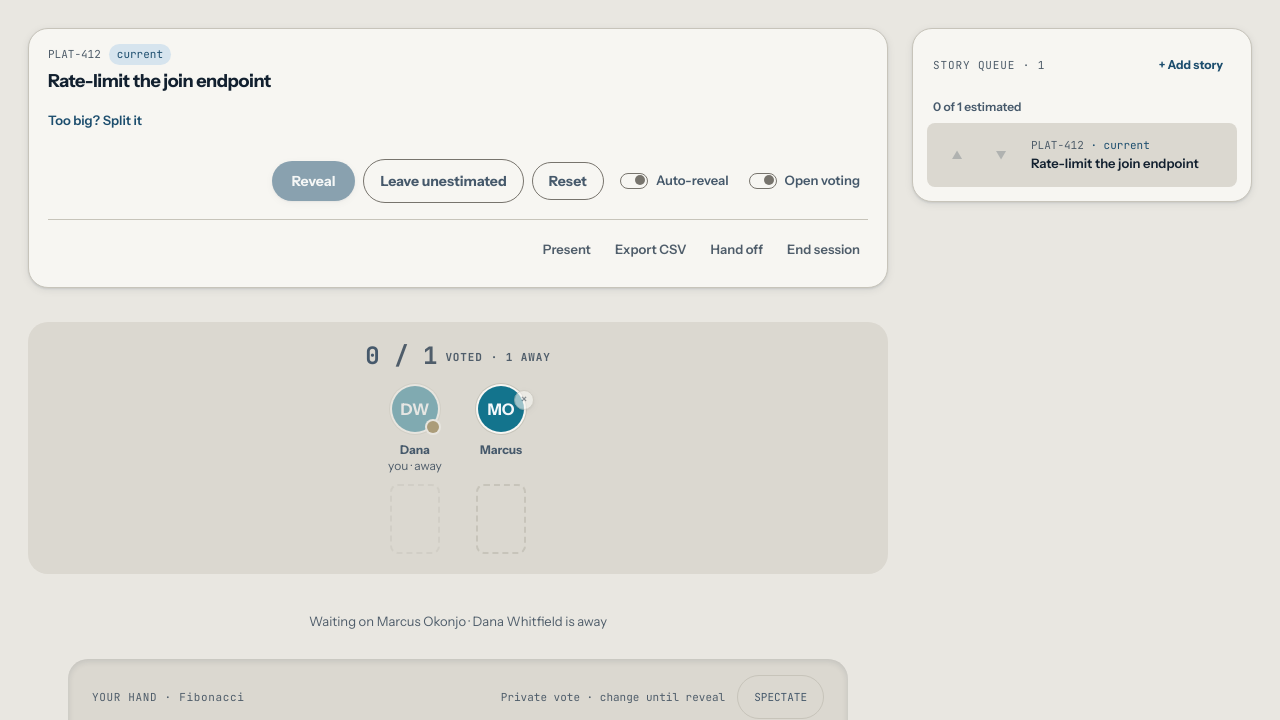
Test case: PokerRoom errors › routes a real queue-originated failure into the story queue landmark
Click the button "+ Add story": (1191, 65) [1151,43,1231,87]
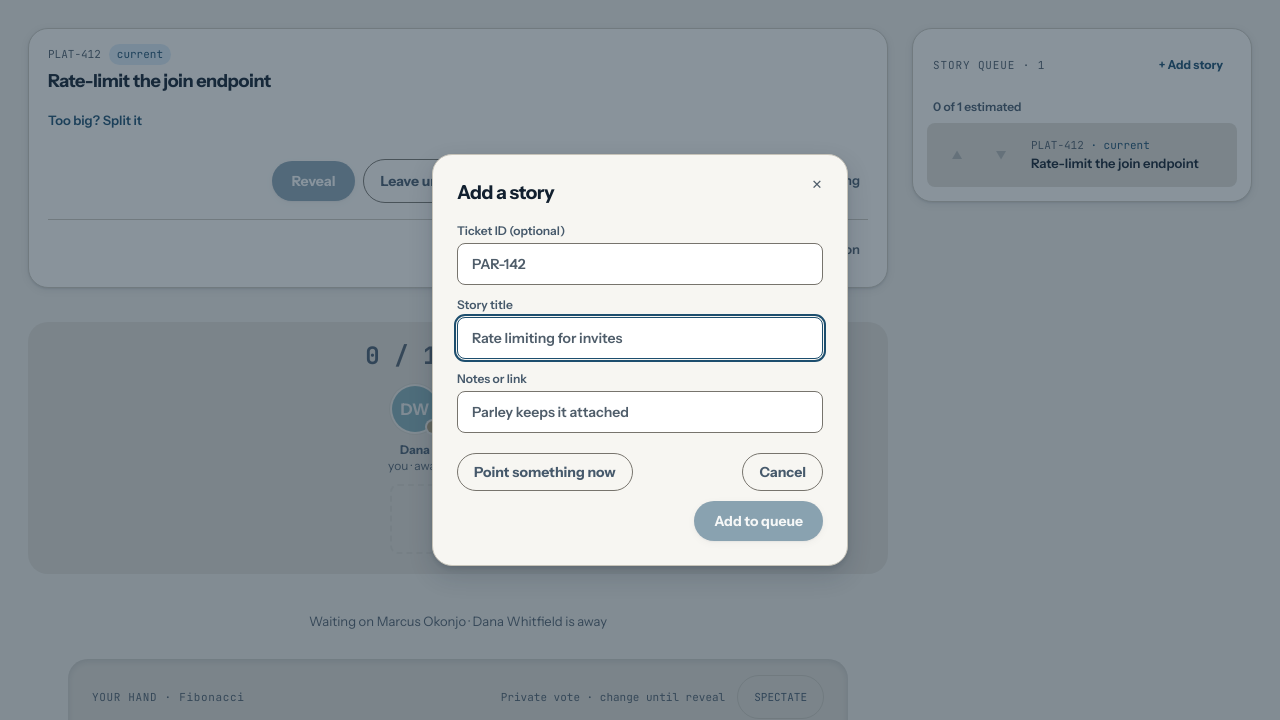
Click the button "Point something now": (545, 472) [457,453,633,491]
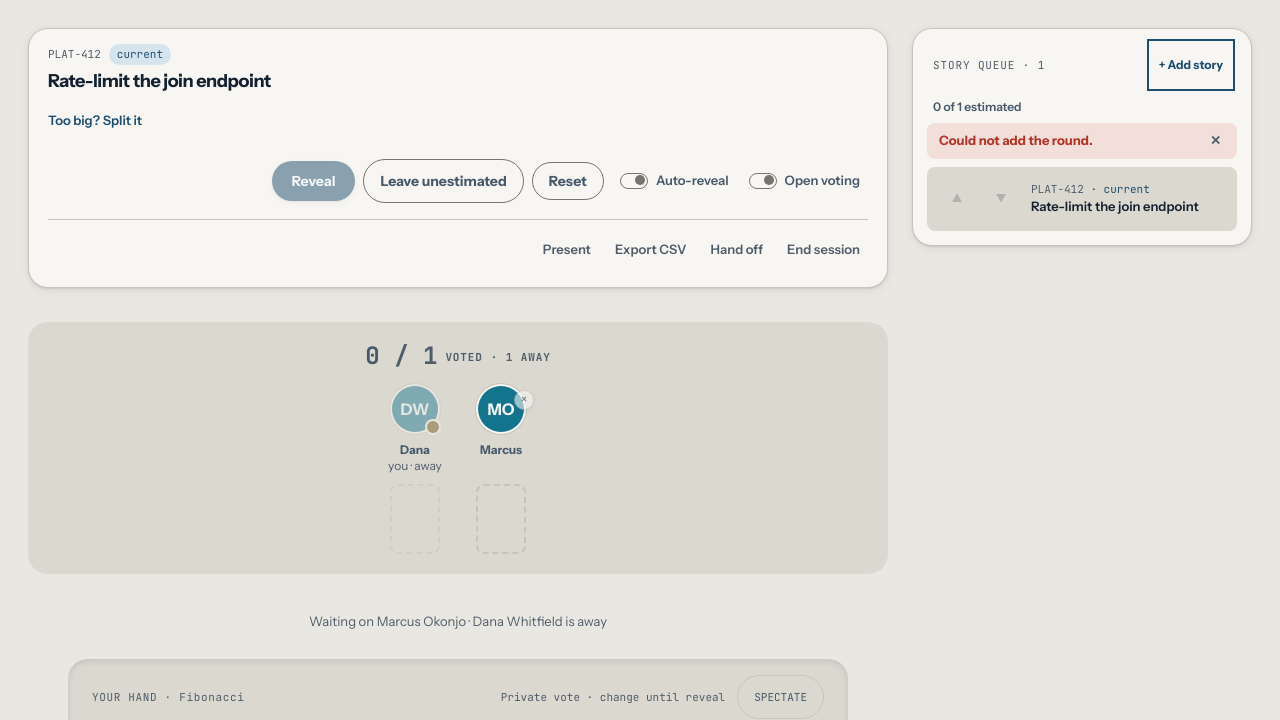
Expected: the message shows "Could not add the round.", [939,132,1093,148]
